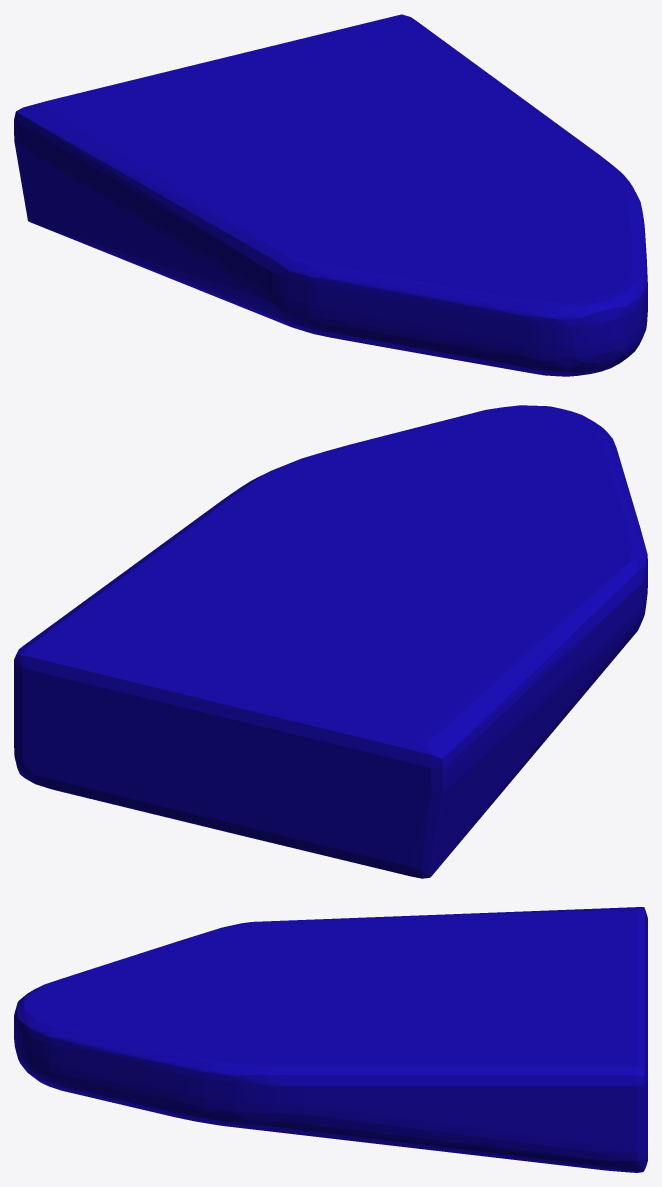
Rendered from left_knee_link_part_5.obj.
3 renders of one model, top to bottom at view 1: azimuth 30°, elevation 25°; view 2: azimuth 150°, elevation 25°; view 3: azimuth 270°, elevation 25°, orthographic. The views are drawn at different scales.
Bounding box in the file's own units: 0.0756 × 0.0229 × 0.1176.
